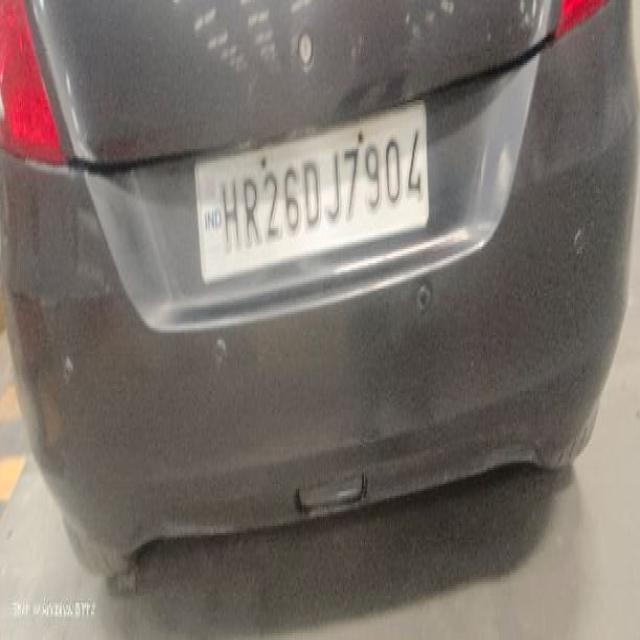license_plate: (0, 0, 638, 579), (192, 98, 430, 284)
